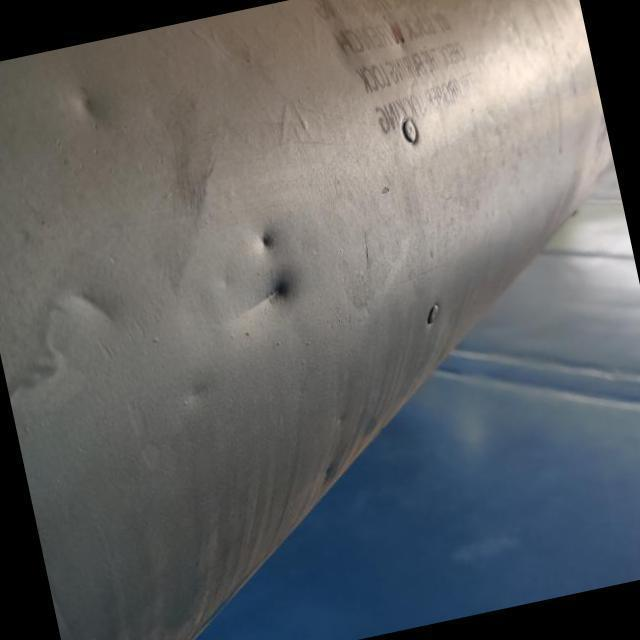Dent: (194, 261, 313, 342), (36, 66, 125, 157), (51, 268, 140, 354), (235, 207, 294, 270)
